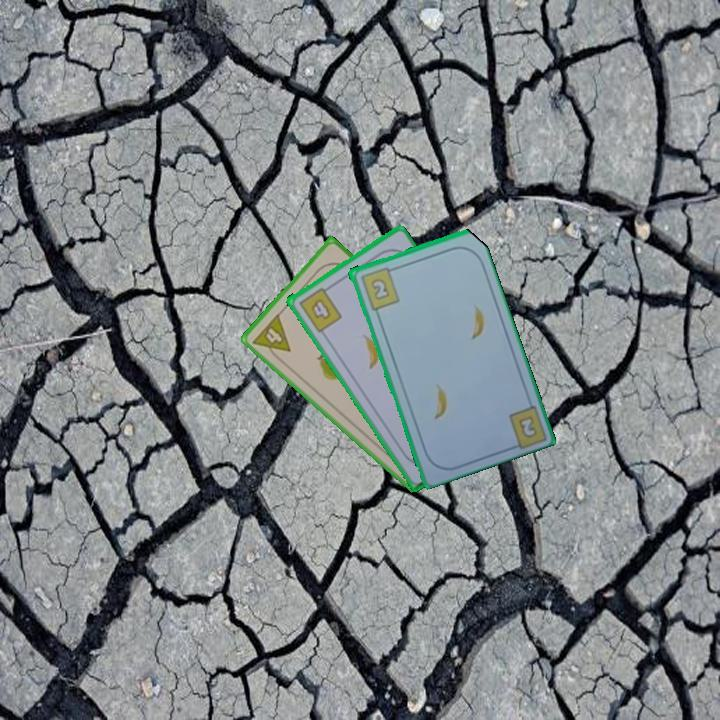2b: (357, 263, 402, 313), (514, 412, 540, 441)
4b: (295, 282, 345, 335)
4p: (248, 310, 294, 365)
